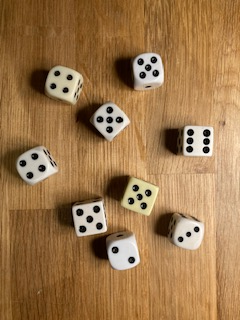five: (89, 101, 131, 143), (119, 176, 160, 216), (71, 198, 108, 237), (130, 52, 165, 91)
four: (14, 144, 60, 186), (43, 64, 85, 105)
six: (177, 124, 216, 159)
three: (165, 212, 206, 251)
two: (105, 230, 141, 271)
